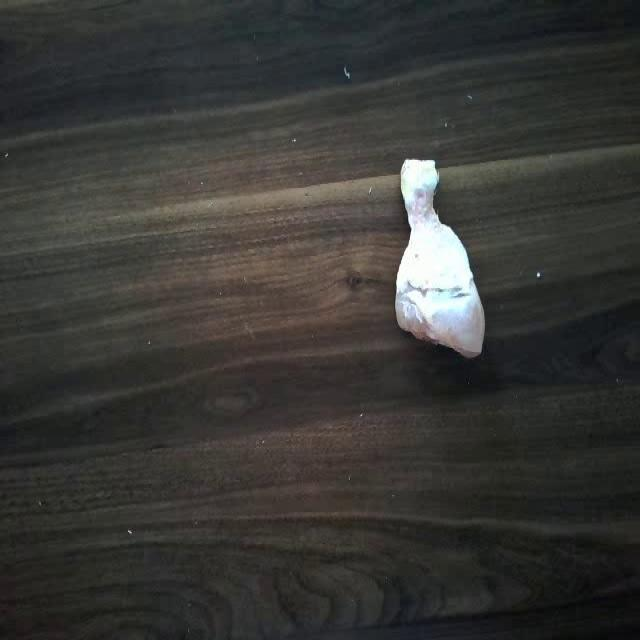leg: (380, 150, 490, 362)
